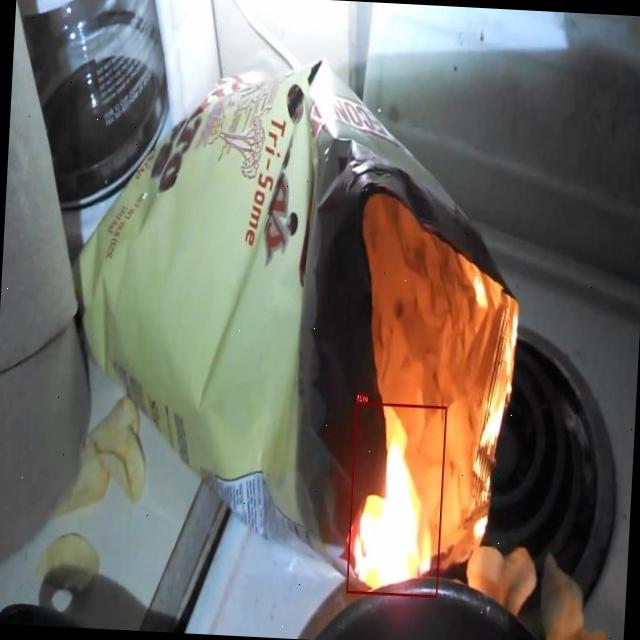fire: (346, 402, 446, 598)
